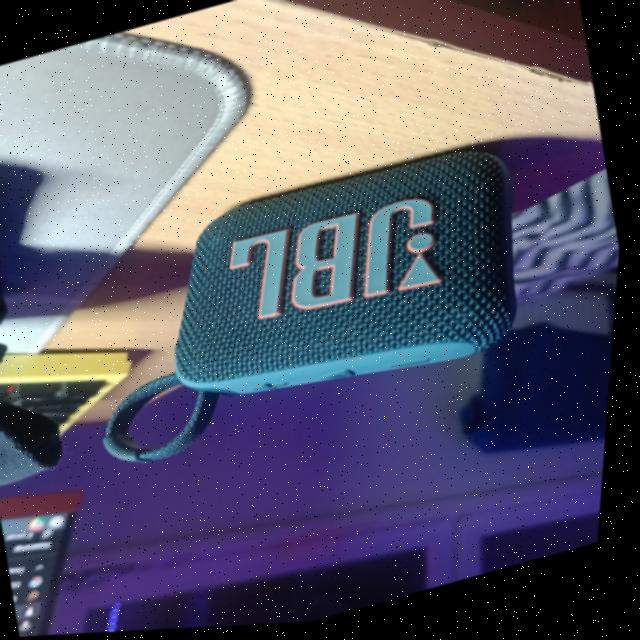column JBL: (62, 143, 522, 476)
